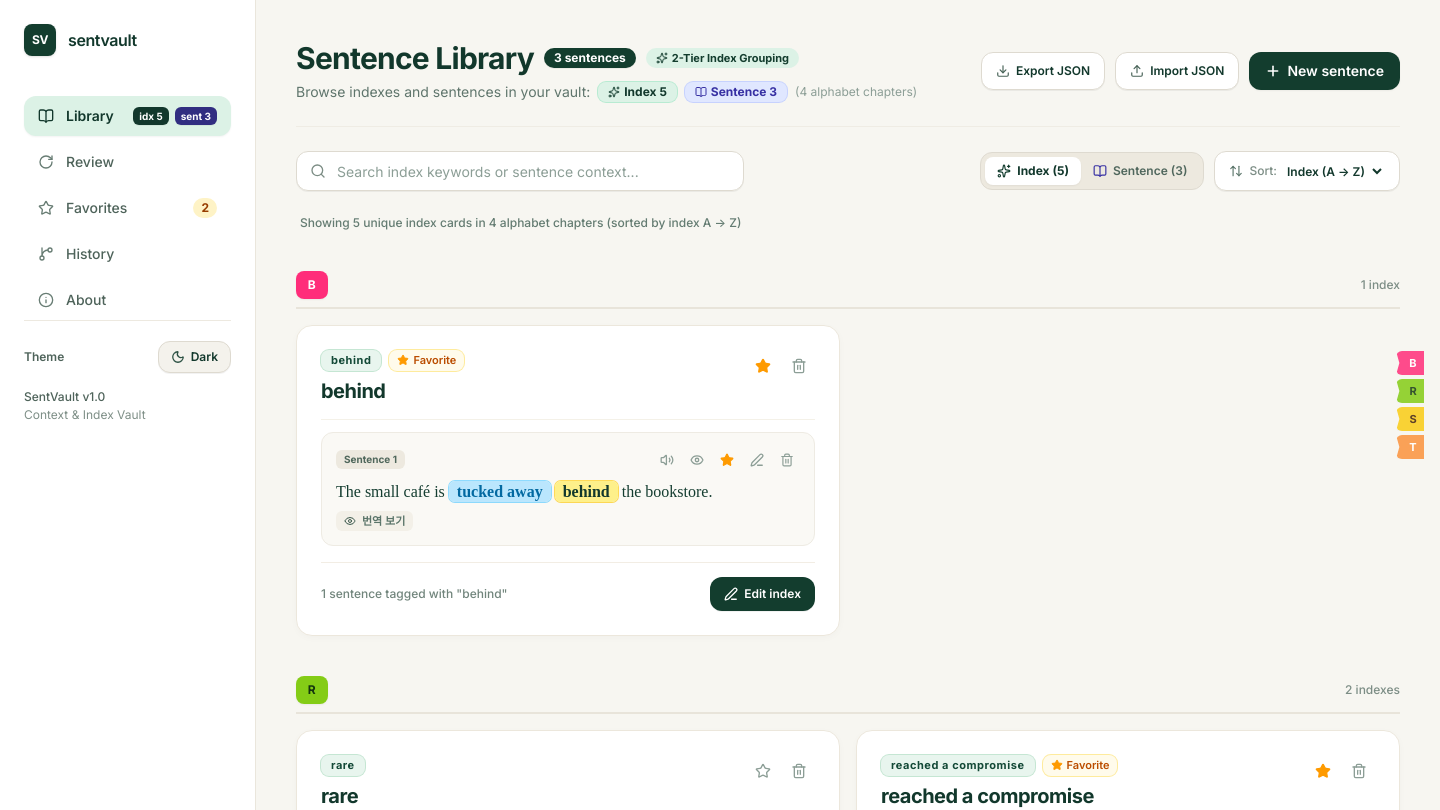
Test: Sentence Note - Multi-Index Management › navigates to History page and displays Git Graph commit timeline and V1.0 tag
Click the button "History".
click(128, 254)  # box [24, 234, 231, 274]
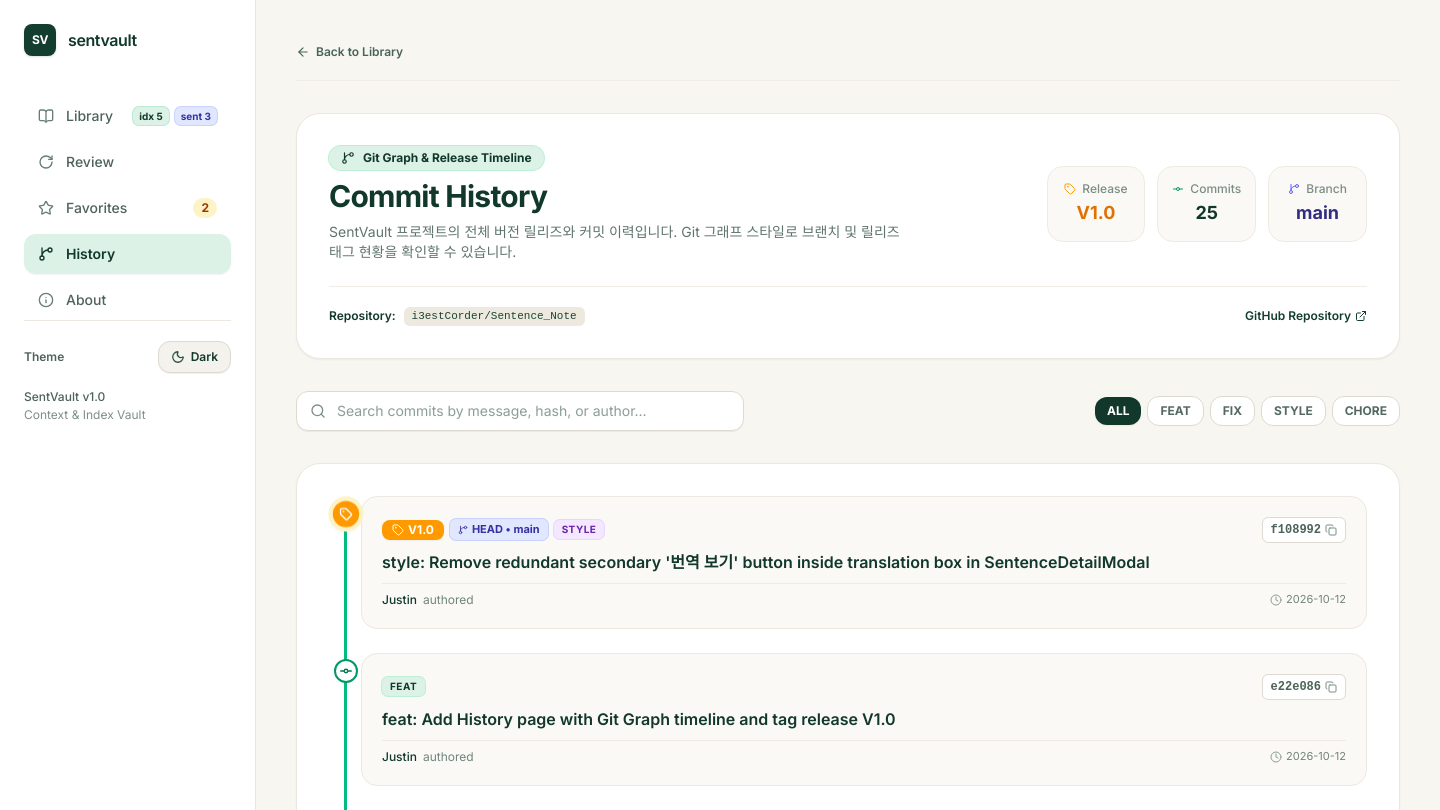
Now the heading "Commit History" is shown, box [329, 178, 547, 214]
Click Back to Library
Click the button "Back to Library".
click(350, 52)  # box [288, 40, 411, 64]
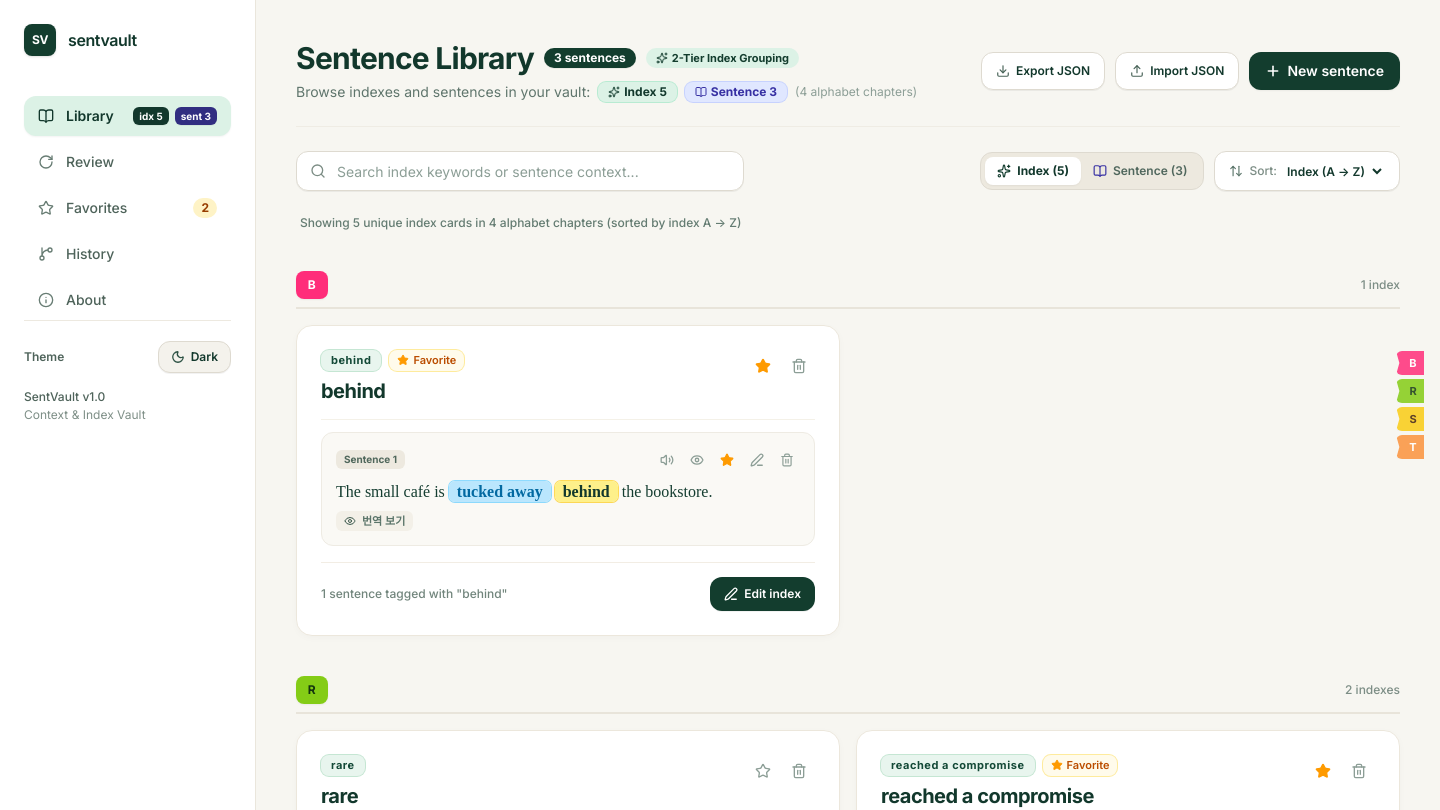
Now the heading "Sentence Library" is shown, box [296, 40, 534, 76]
